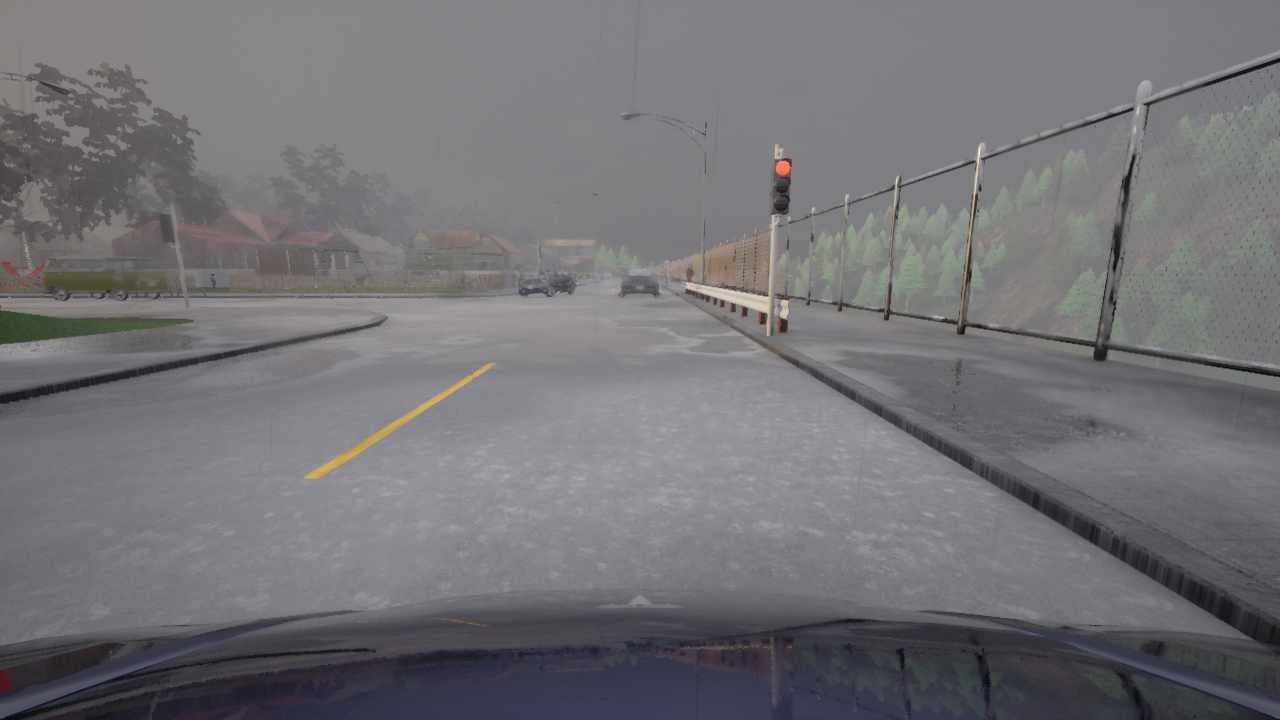cyclist: (0, 588, 1279, 719), (39, 255, 169, 300), (518, 266, 575, 297), (620, 269, 659, 296)
pedestrian: (209, 273, 221, 294), (685, 263, 692, 281), (566, 266, 567, 268)
